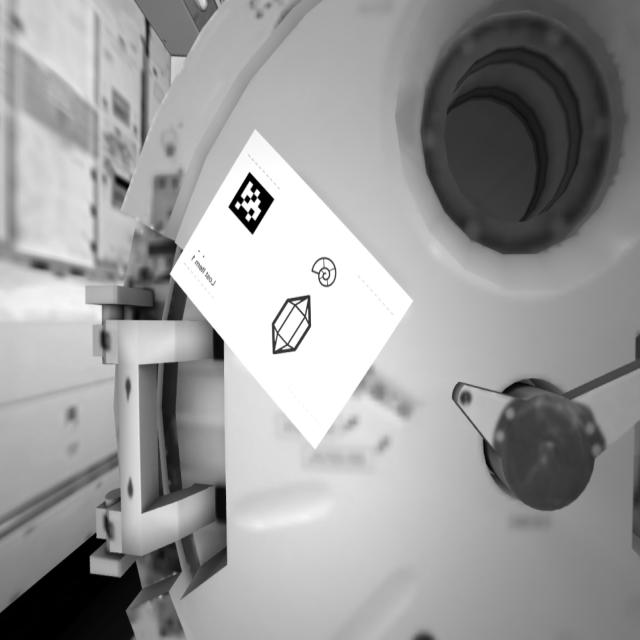crystal: (265, 290, 319, 364)
fossil: (310, 256, 342, 291)
